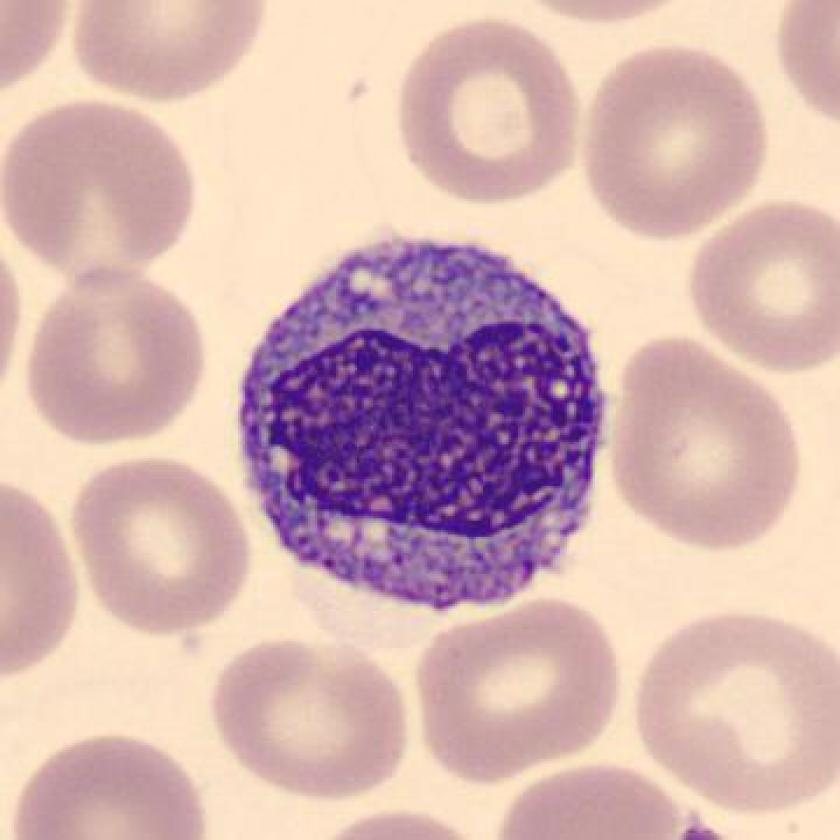monocyte: (216, 209, 626, 633)
